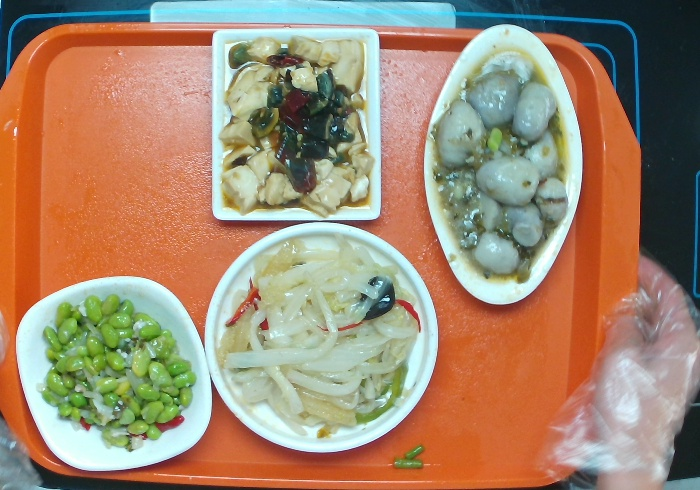HZYJPL-Si_Fang_Die: (207, 15, 386, 226)
HZYJPL-Si_Fang_Yuan_Die: (16, 272, 216, 480)
HZYJPL-Xiao_Yu_Die: (417, 21, 594, 312)
HZYJPL-Xiao_Yuan_Die: (207, 222, 439, 461)
